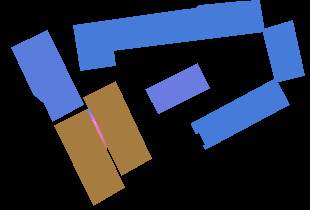parkingspot: (73, 0, 264, 70), (191, 78, 289, 149), (54, 109, 124, 205), (11, 30, 83, 121), (83, 81, 151, 175), (145, 63, 209, 113), (262, 20, 304, 82)
